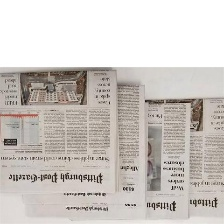news_paper: (4, 99, 193, 223), (18, 79, 149, 205), (0, 67, 119, 195), (151, 92, 223, 219)
